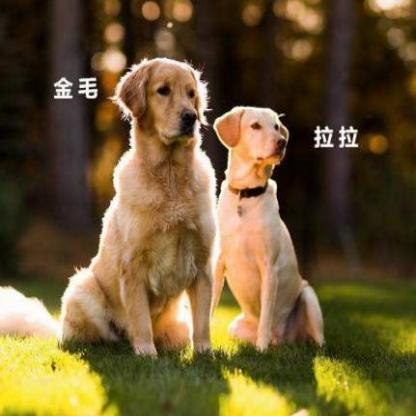Labarador Retriever: (61, 53, 221, 362), (213, 105, 324, 352)
